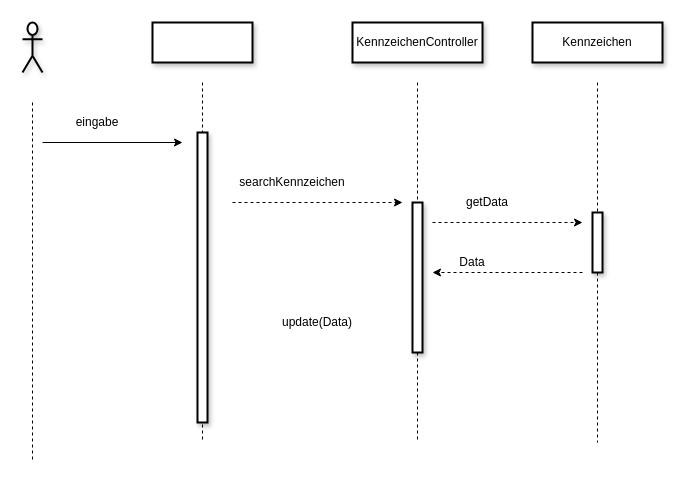
This 686x481 diagram has some shape labels left out. Here are the shapes that lost their labels. From the top down, the centre of each, then its label:
(33,48): User
(203,43): view home.blade.php
